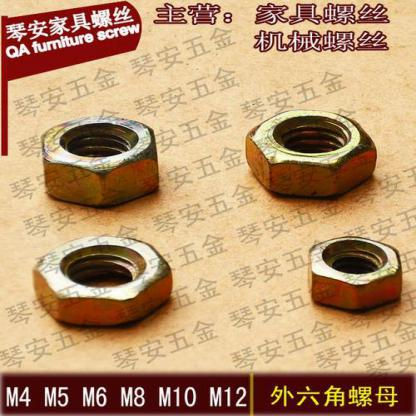FOD: (28, 233, 175, 328), (242, 106, 378, 198), (37, 113, 163, 209), (303, 235, 404, 314)
